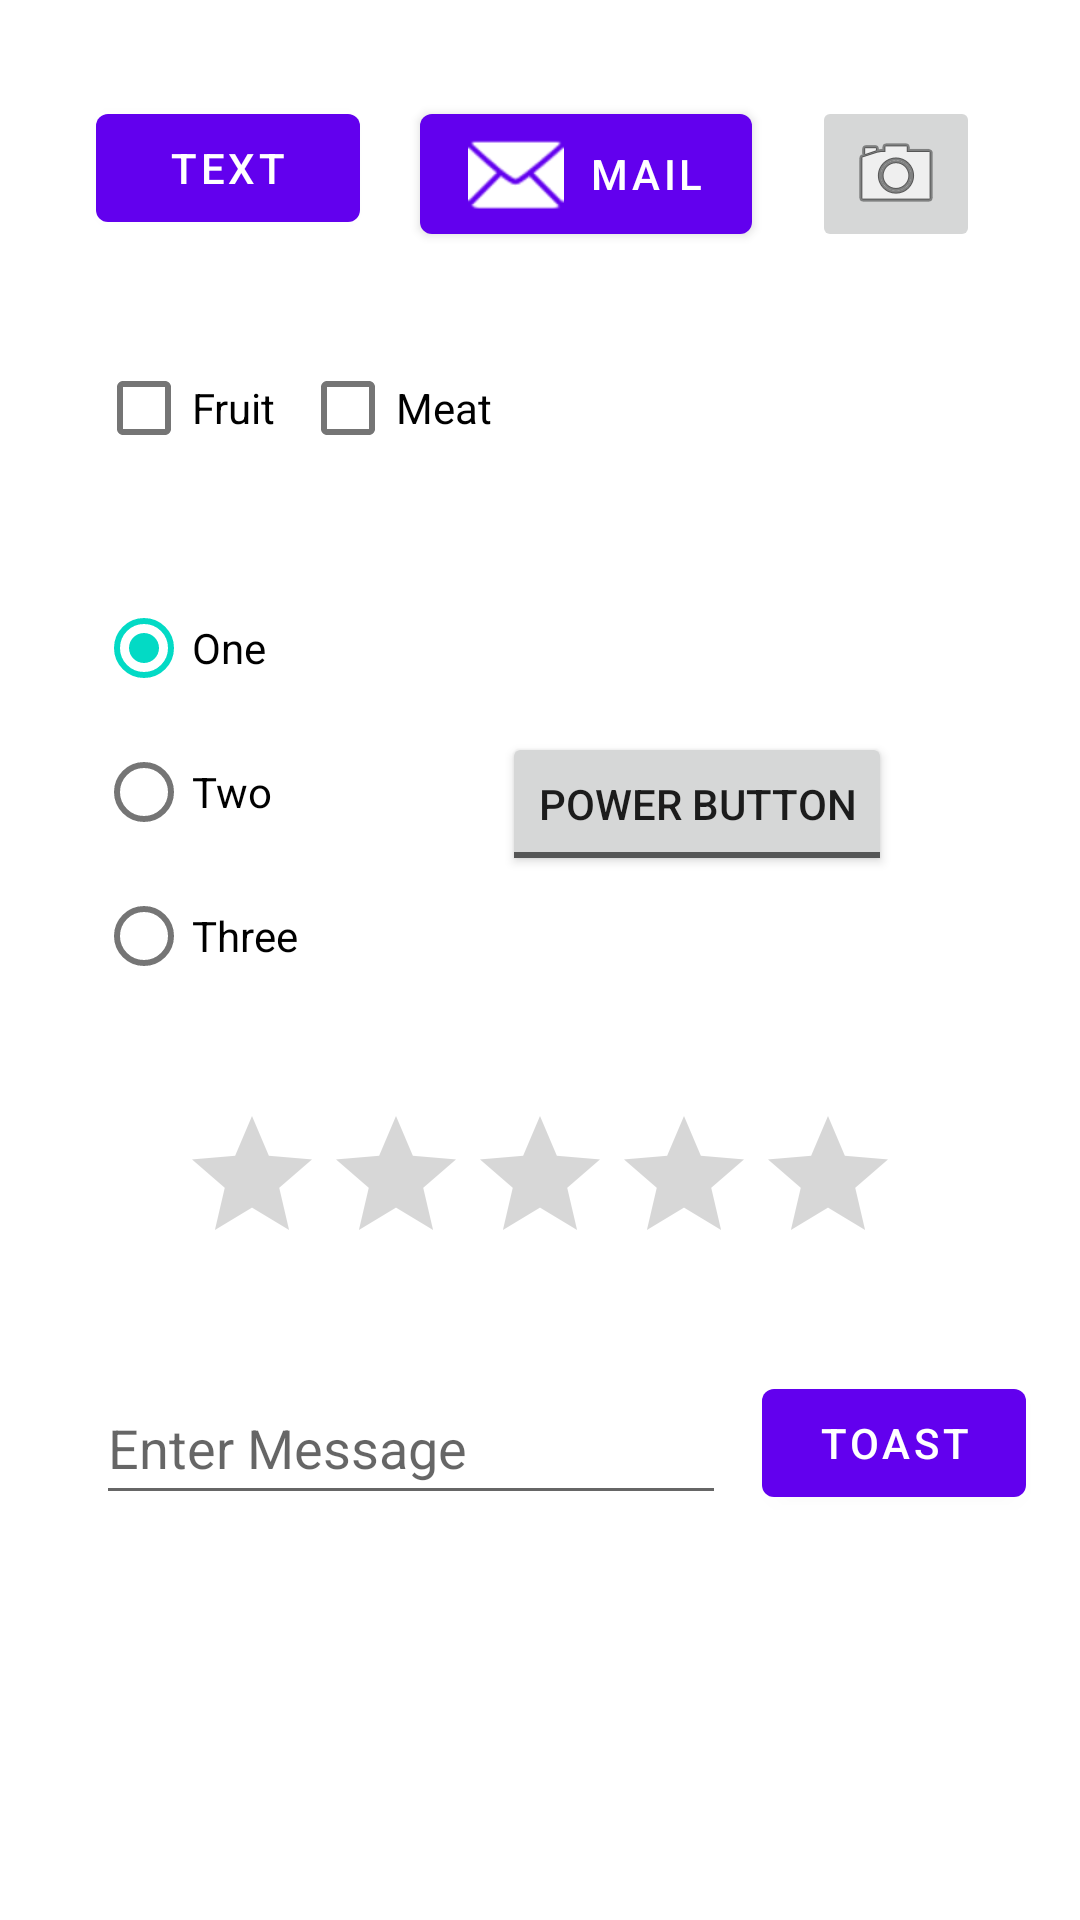

Named icons in this screenshot (1080*1920) and their bounding boxes, (x1, y1, x2, y2):
Take Shot: (824, 114, 968, 234)
